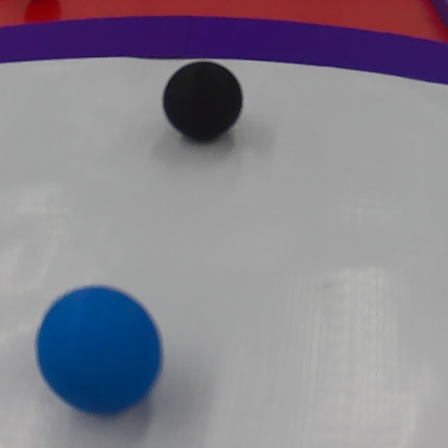black: (160, 56, 248, 147)
blue: (35, 282, 158, 421)
red_aim: (0, 0, 447, 95)
